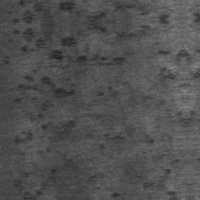rolled-in_scale: (5, 28, 103, 146)
